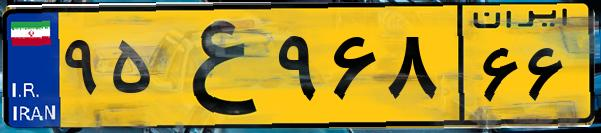5: (110, 28, 158, 98)
6: (330, 28, 385, 110), (475, 38, 525, 113), (525, 38, 570, 115)
8: (385, 28, 445, 110)
9: (270, 28, 330, 110), (57, 26, 110, 100)
ع: (158, 12, 270, 120)
